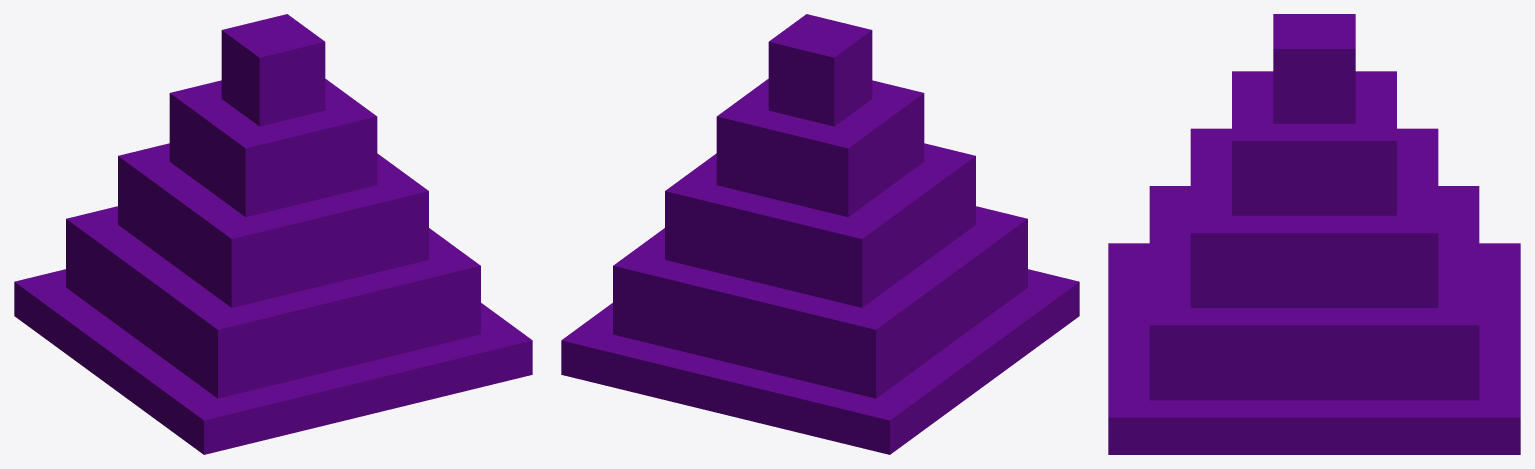
Rendered from cristal.obj.
3 views of the same model, side by side, from view 1: azimuth 30°, elevation 25°; view 2: azimuth 150°, elevation 25°; view 3: azimuth 270°, elevation 25° (orthographic). The views are drawn at different scales.
Bounding box in the file's own units: 10 × 9 × 10.
Materials: 1 (1 with a texture image).
